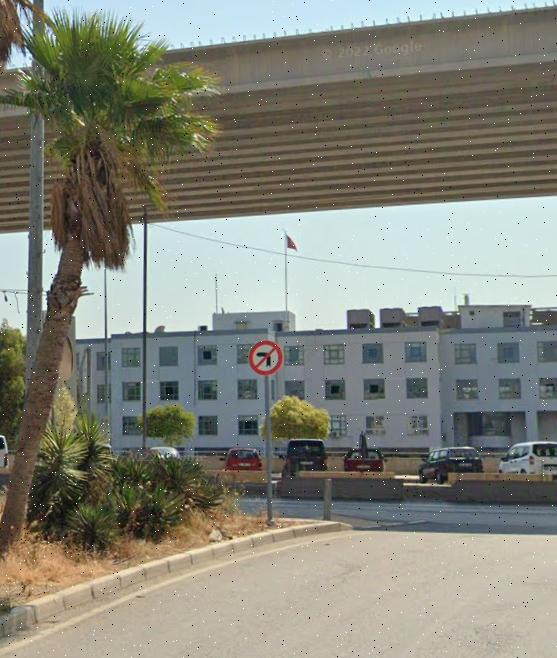leftturnsareforbidden: (248, 343, 285, 372)
